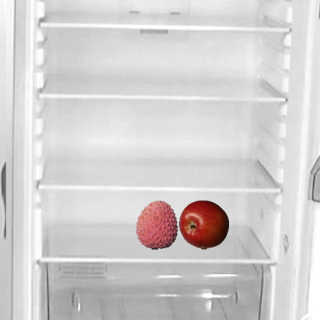Apple Braeburn: (178, 199, 228, 249)
Lychee: (131, 199, 181, 249)
